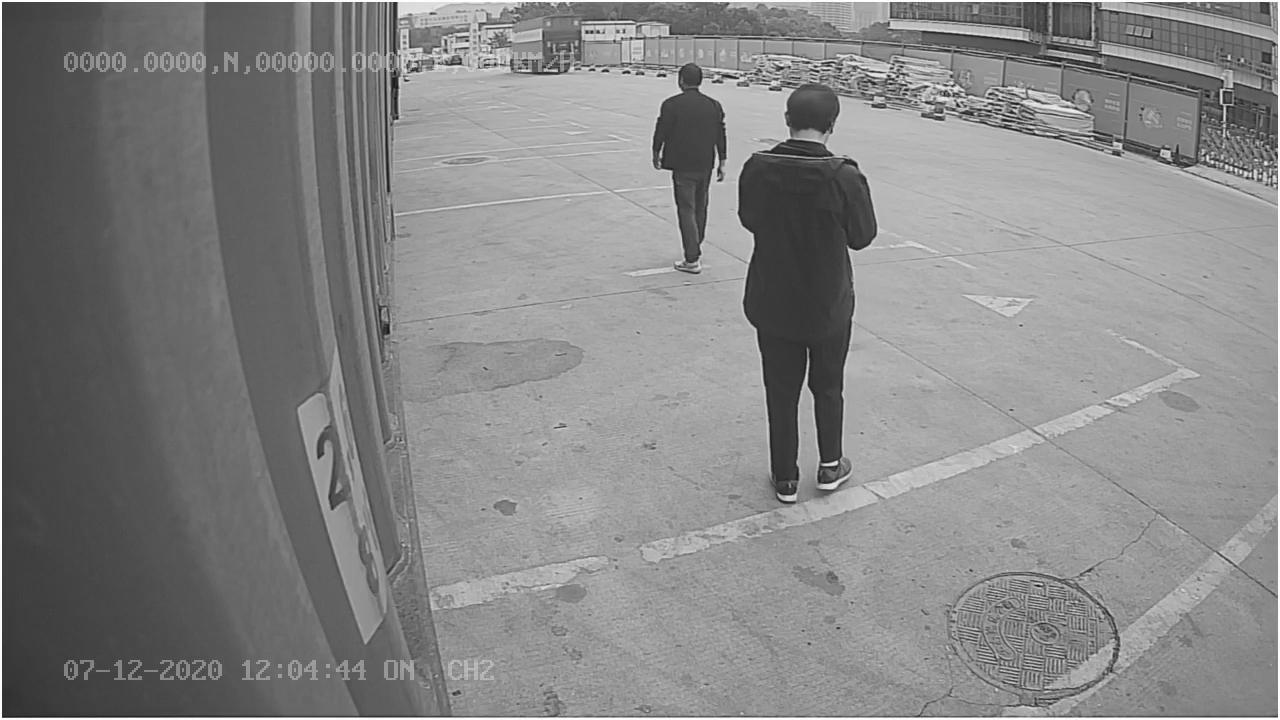person: (738, 74, 884, 502), (647, 59, 729, 278)
